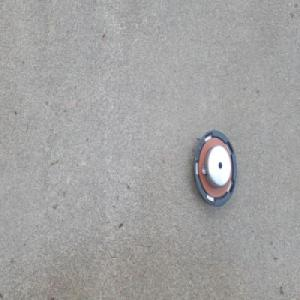FuelCap: (191, 128, 238, 210)
